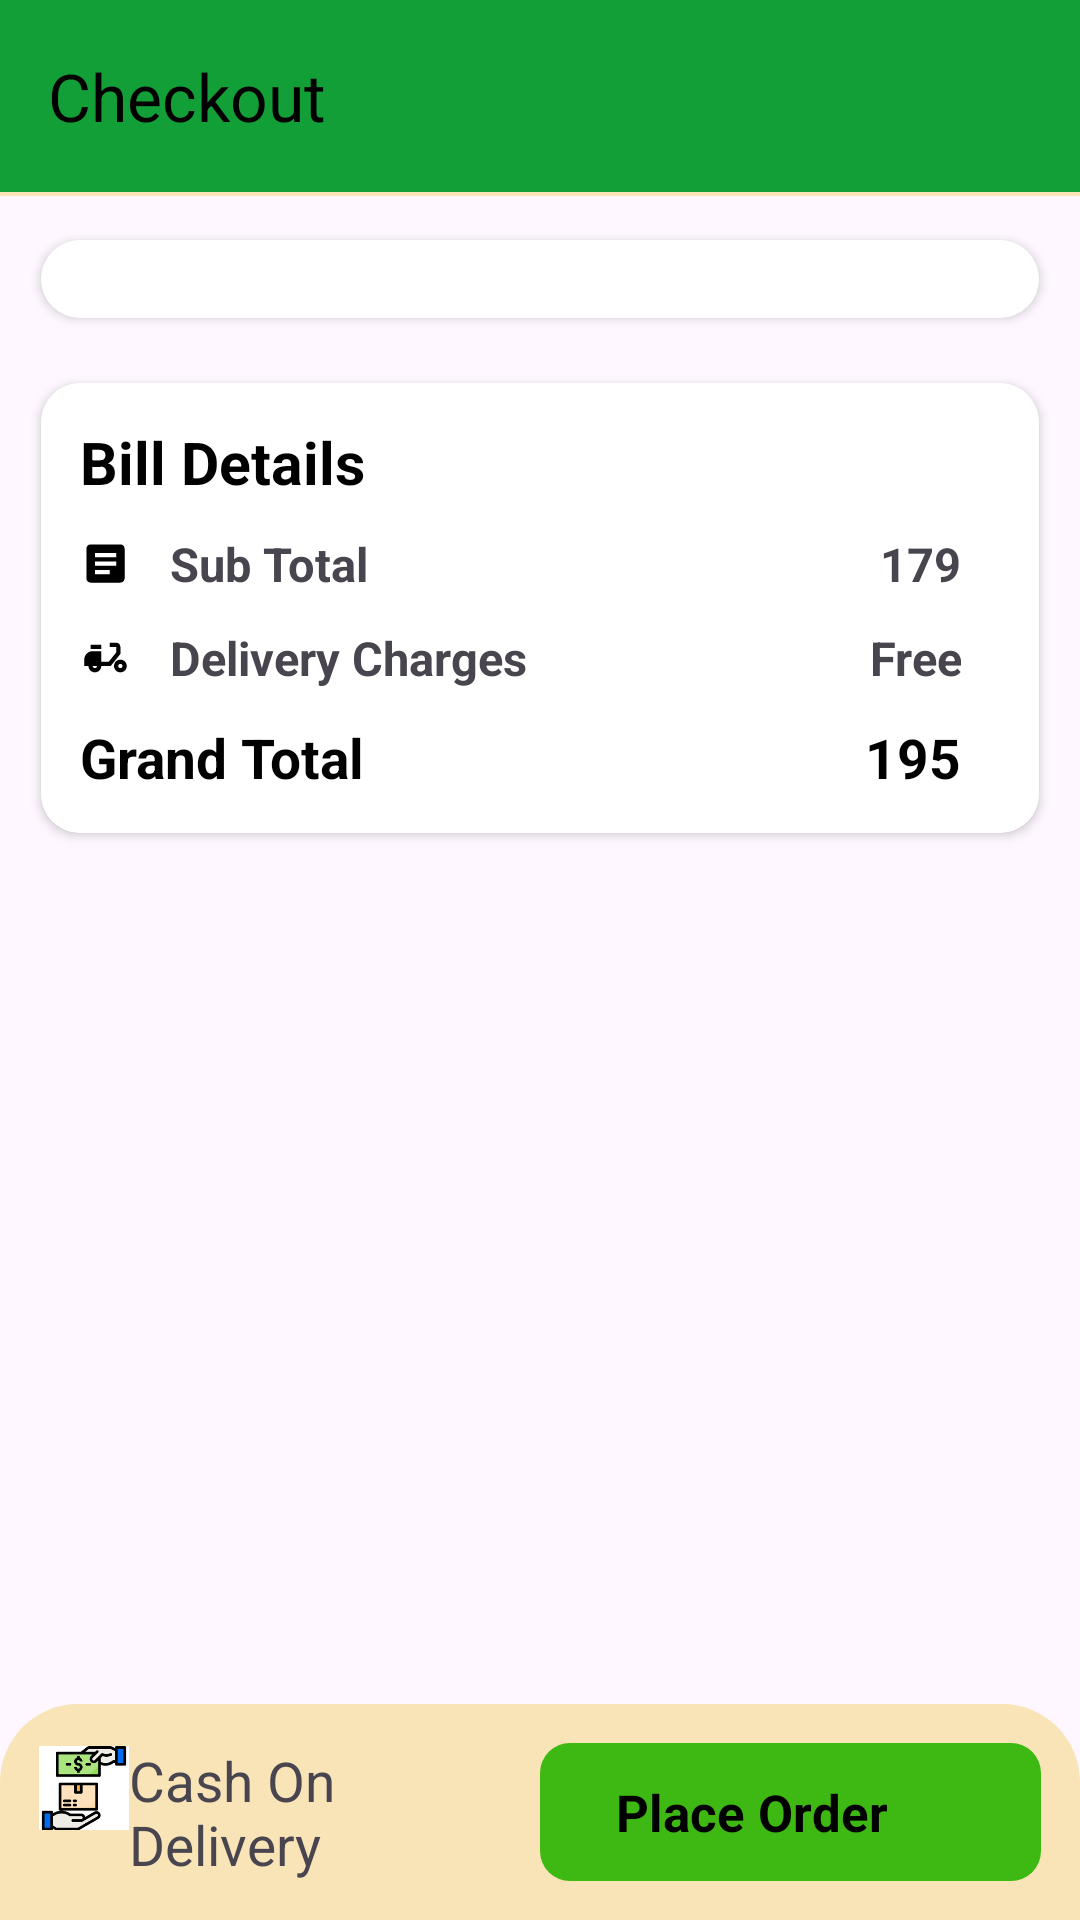

Screen size 1080x1920. Icon name, then its box in pixels as [x1=x1, y1=y1, x2=x2, y2=y2]:
article: [x1=86, y1=544, x2=125, y2=583]
delivery dining: [x1=84, y1=642, x2=127, y2=673]
